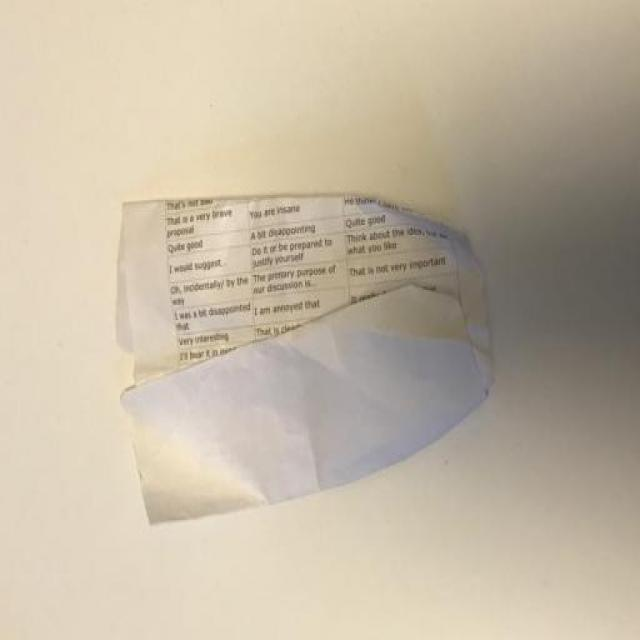paper: (114, 212, 505, 500)
